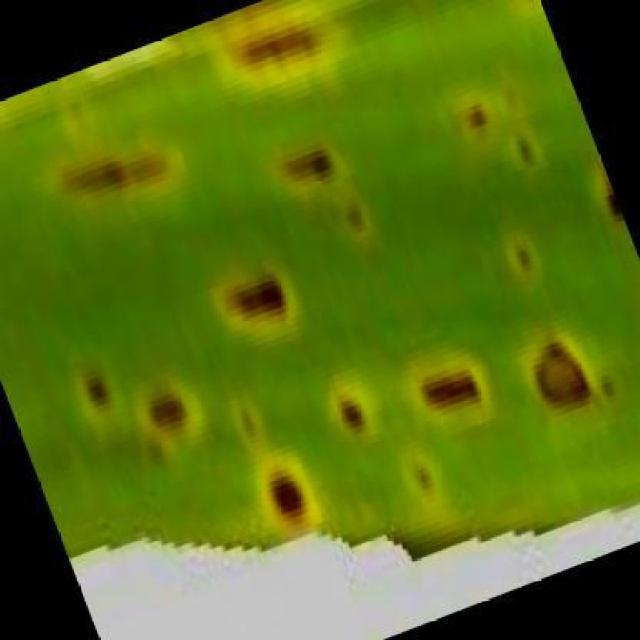Bacterial_Leaf_Blight: (510, 310, 618, 442)
Leaf_Blast: (17, 108, 226, 243), (209, 0, 383, 111), (203, 248, 319, 350), (403, 331, 506, 438), (246, 435, 331, 556), (473, 85, 562, 192), (124, 355, 211, 462), (268, 124, 364, 210), (220, 366, 283, 477), (491, 202, 558, 302), (64, 345, 133, 438), (326, 181, 396, 262), (395, 441, 456, 530), (442, 74, 508, 154), (324, 372, 384, 453)
